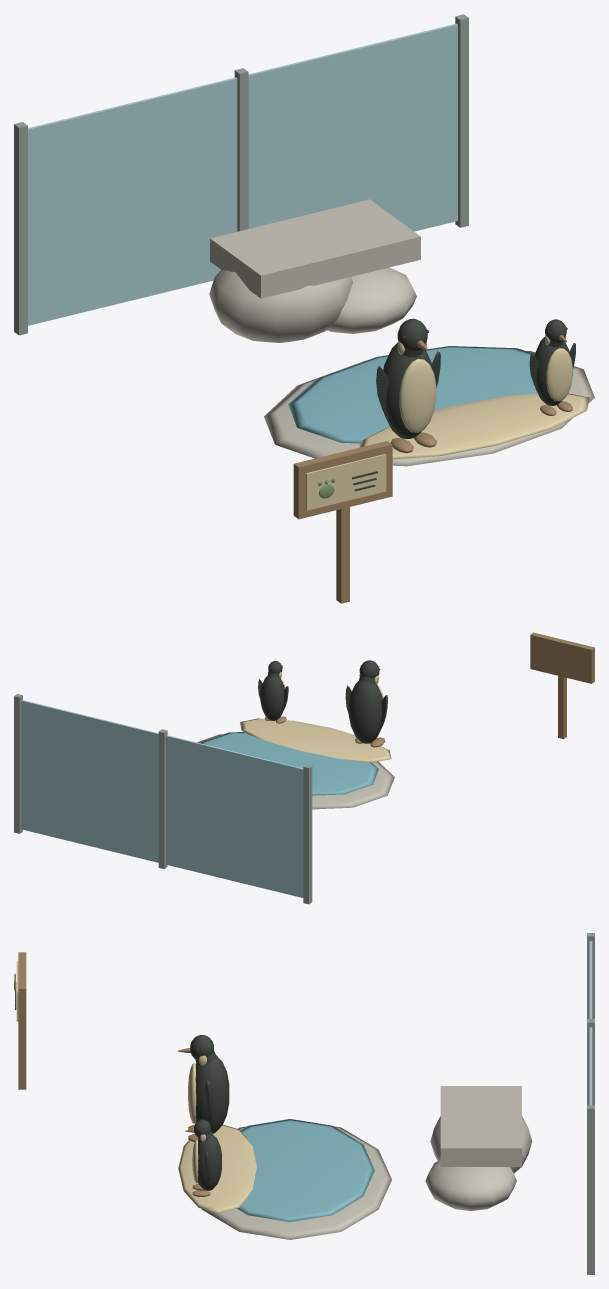
The model's file is zoo-and-safari-park-builder-penguin-pool-e4d0fd4a__21527.glb.
The picture shows the model from 3 angles, top to bottom: view 1: azimuth 30°, elevation 25°; view 2: azimuth 150°, elevation 25°; view 3: azimuth 270°, elevation 25°; orthographic projection. The views are drawn at different scales.
Parts seen in each view (by area): view 1: 004-glass-viewing-straight/1, 005-glass-viewing-straight/1, 003-rock-ledge/0, 000-pool-with-beach/1, 000-pool-with-beach/2, 004-glass-viewing-straight/0, 000-pool-with-beach/0, 006-species-information-sign/0, 005-glass-viewing-straight/0, 001-emperor-penguin/0, 006-species-information-sign/1, 001-emperor-penguin/1 (+2 smaller); view 2: 004-glass-viewing-straight/1, 005-glass-viewing-straight/1, 000-pool-with-beach/1, 000-pool-with-beach/2, 006-species-information-sign/0, 001-emperor-penguin/0, 004-glass-viewing-straight/0, 005-glass-viewing-straight/0, 000-pool-with-beach/0, 002-gentoo-penguin/0; view 3: 003-rock-ledge/0, 000-pool-with-beach/1, 000-pool-with-beach/0, 000-pool-with-beach/2, 001-emperor-penguin/0, 002-gentoo-penguin/0, 005-glass-viewing-straight/0, 006-species-information-sign/0, 004-glass-viewing-straight/0.
Boxes of the visible parts, x1,y1,x2,y2 form: 004-glass-viewing-straight/1: [28, 77, 237, 325]; 005-glass-viewing-straight/1: [248, 23, 457, 231]; 003-rock-ledge/0: [209, 199, 420, 342]; 000-pool-with-beach/1: [288, 346, 537, 443]; 000-pool-with-beach/2: [359, 393, 589, 459]; 004-glass-viewing-straight/0: [14, 68, 248, 335]; 000-pool-with-beach/0: [264, 351, 594, 466]; 006-species-information-sign/0: [293, 441, 392, 603]; 005-glass-viewing-straight/0: [234, 14, 468, 231]; 001-emperor-penguin/0: [376, 318, 440, 438]; 006-species-information-sign/1: [306, 454, 386, 510]; 001-emperor-penguin/1: [399, 359, 436, 432]; 004-glass-viewing-straight/1: [166, 735, 303, 897]; 005-glass-viewing-straight/1: [21, 700, 158, 862]; 000-pool-with-beach/1: [199, 732, 378, 795]; 000-pool-with-beach/2: [239, 718, 391, 762]; 006-species-information-sign/0: [530, 632, 594, 739]; 001-emperor-penguin/0: [345, 660, 387, 743]; 004-glass-viewing-straight/0: [158, 729, 312, 904]; 005-glass-viewing-straight/0: [14, 694, 167, 868]; 000-pool-with-beach/0: [197, 734, 394, 809]; 002-gentoo-penguin/0: [258, 661, 288, 720]; 003-rock-ledge/0: [425, 1086, 532, 1211]; 000-pool-with-beach/1: [237, 1119, 374, 1221]; 000-pool-with-beach/0: [202, 1126, 391, 1239]; 000-pool-with-beach/2: [178, 1124, 256, 1213]; 001-emperor-penguin/0: [190, 1035, 229, 1133]; 002-gentoo-penguin/0: [194, 1119, 221, 1190]; 005-glass-viewing-straight/0: [587, 1019, 594, 1274]; 006-species-information-sign/0: [18, 952, 26, 1089]; 004-glass-viewing-straight/0: [587, 933, 594, 1105].
Size of the model in its own units: 4.76 by 1.8 by 5.7.
